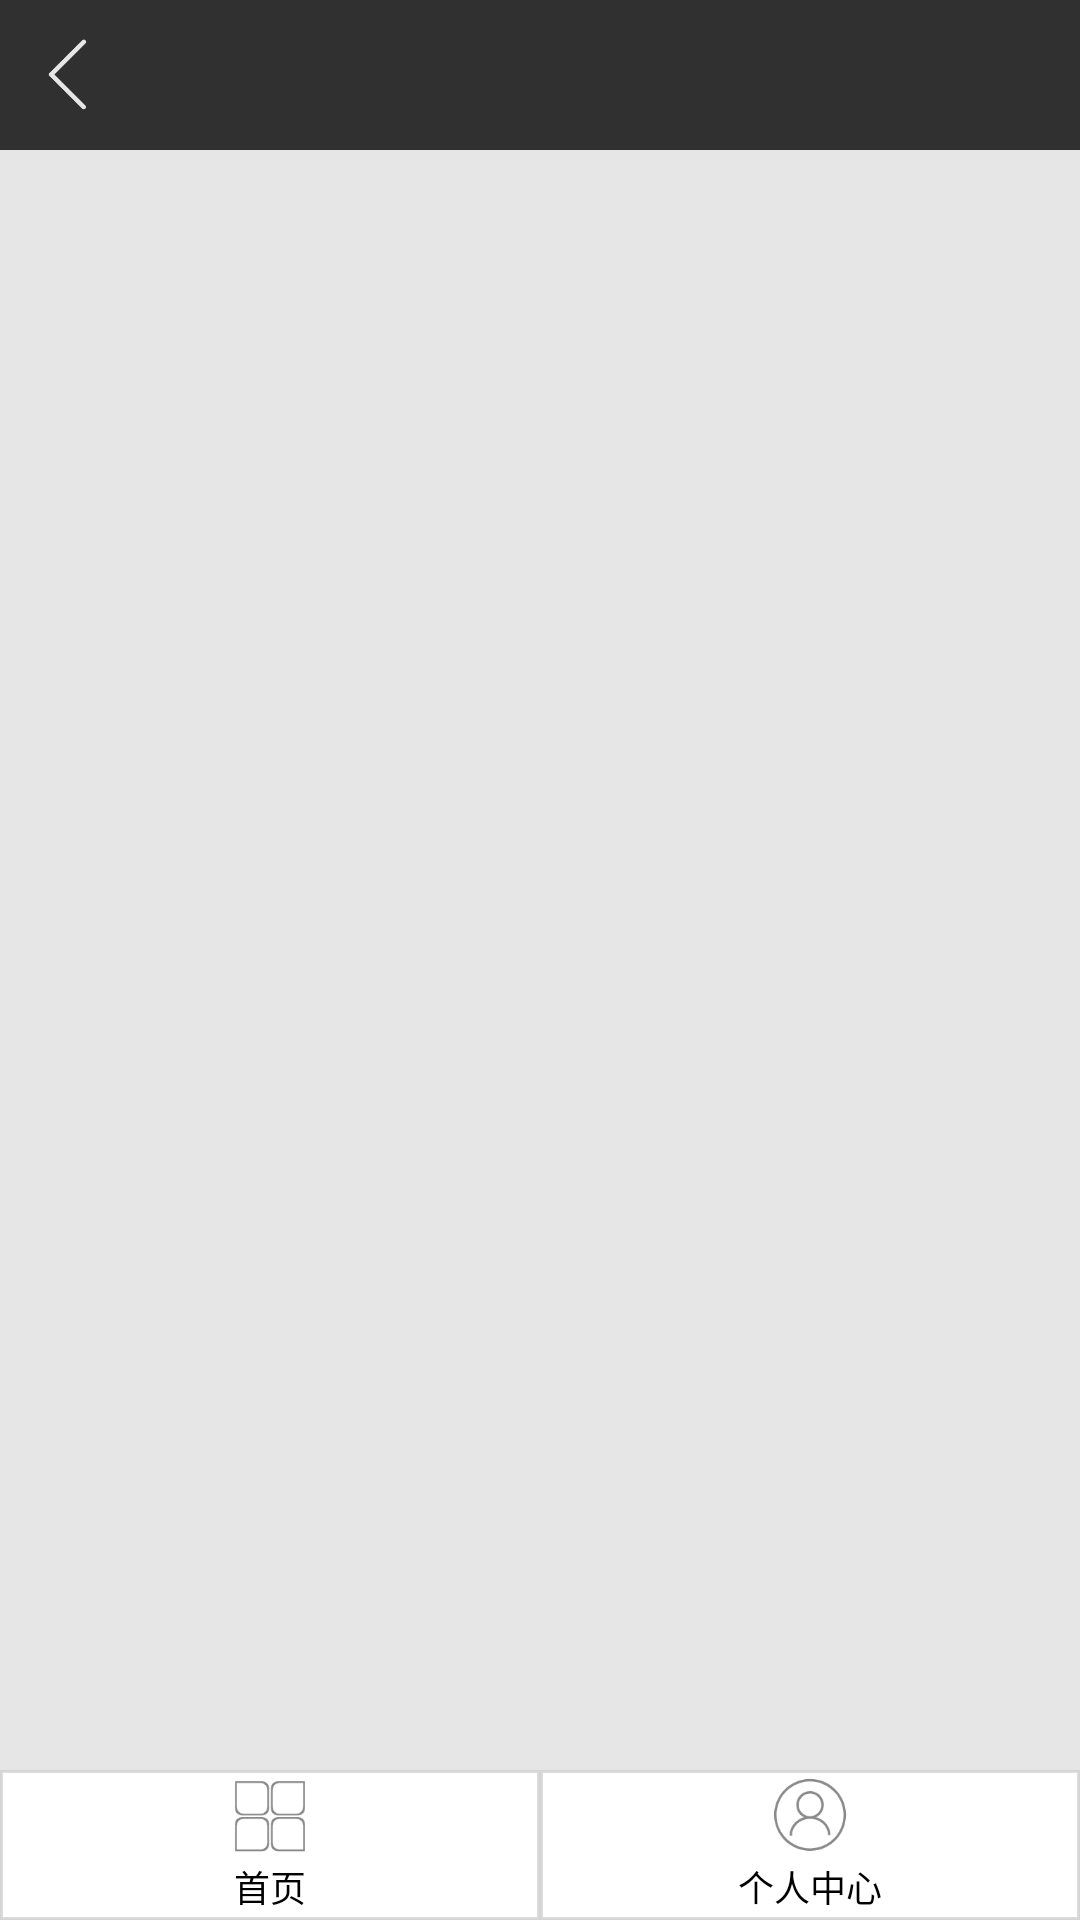

Icons on this 1080px×1920px Android screen, each with its box as (x1, y1, x2, y2):
back: (48, 39, 86, 110)
